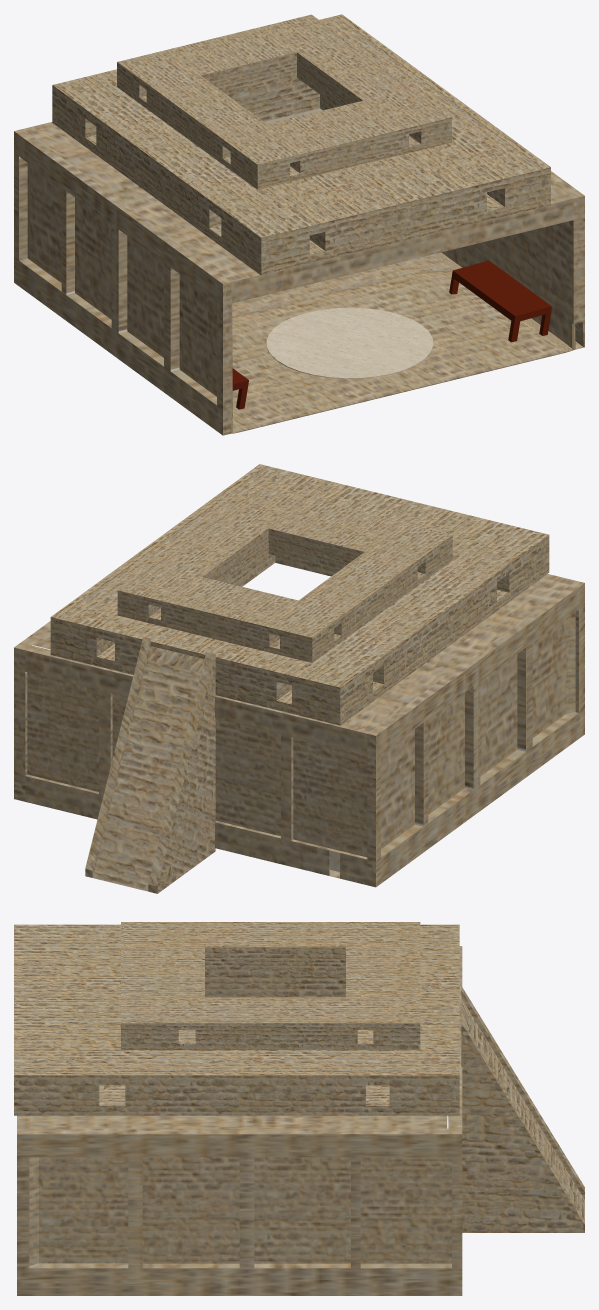
The model's file is Sumerian_army_building.fbx.
3 views of the same model, one above another, from view 1: azimuth 30°, elevation 25°; view 2: azimuth 150°, elevation 25°; view 3: azimuth 270°, elevation 25° (orthographic). The views are drawn at different scales.
Visible parts, largest first — view 1: Cube, Cube.004, Cube.002, Cube.007; view 2: Cube, Cube.004, Cube.002, Cube.005; view 3: Cube, Cube.004, Cube.002, Cube.005.
Boxes of the visible parts, <box> form: Cube: <box>14,108,584,435</box>; Cube.004: <box>52,14,550,275</box>; Cube.002: <box>117,14,451,189</box>; Cube.007: <box>449,260,551,342</box>; Cube: <box>14,574,584,887</box>; Cube.004: <box>50,464,549,725</box>; Cube.002: <box>117,487,452,662</box>; Cube.005: <box>85,637,215,893</box>; Cube: <box>17,946,462,1295</box>; Cube.004: <box>14,924,459,1115</box>; Cube.002: <box>121,922,420,1049</box>; Cube.005: <box>459,986,584,1232</box>.
Size of the model in its own units: 1000 by 577 by 1282.
Materials: 13 (4 with a texture image).
